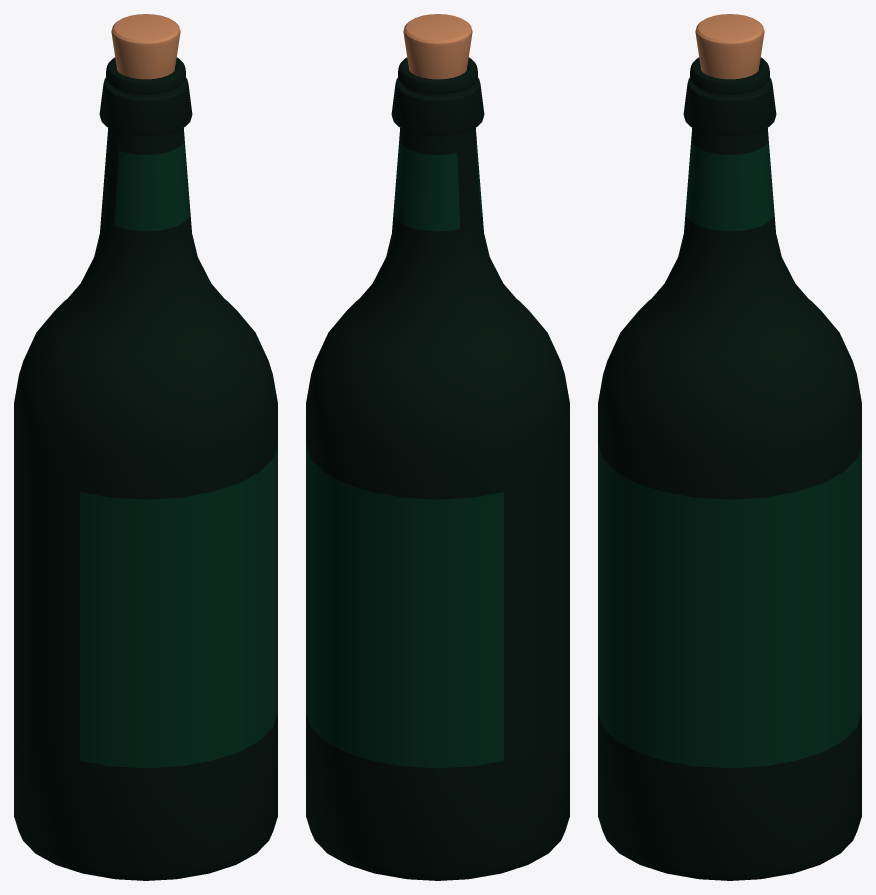
File: Bottles_02.glb
3 renders of one model, left to right at view 1: azimuth 30°, elevation 25°; view 2: azimuth 150°, elevation 25°; view 3: azimuth 270°, elevation 25°, orthographic.
Parts seen in each view (by area): view 1: Mesh_Bottles_02; view 2: Mesh_Bottles_02; view 3: Mesh_Bottles_02.
Part boxes in pixels (x1,y1,x2,y2): Mesh_Bottles_02: (14, 14, 277, 880); Mesh_Bottles_02: (306, 14, 569, 880); Mesh_Bottles_02: (598, 14, 861, 880).
Bounding box in the file's own units: 0.0708 × 0.2385 × 0.0708.
Materials: 1 (1 with a texture image).
